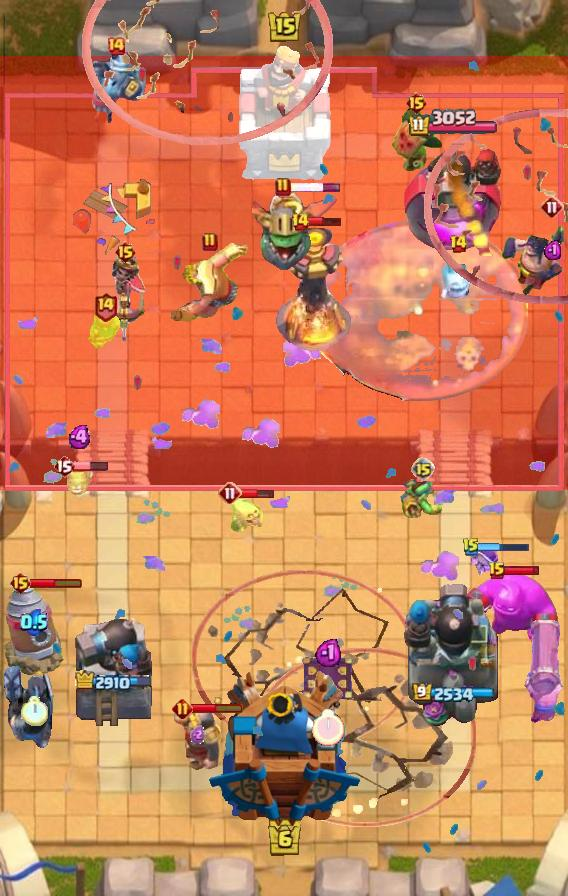bat: (436, 259, 480, 305)
bat-evolution: (225, 498, 265, 532)
battle-healer: (522, 620, 568, 724)
bomber-evolution: (101, 254, 149, 346)
clone: (458, 571, 566, 653)
electro-dragon: (274, 225, 352, 351)
electro-spirit: (20, 608, 48, 636), (315, 637, 341, 667), (67, 425, 92, 449), (543, 239, 561, 261), (191, 724, 206, 743)
elixir: (312, 709, 344, 747), (20, 696, 47, 726)
elixir-golem-small: (86, 47, 146, 125)
emote: (30, 577, 83, 589), (192, 702, 245, 714), (478, 541, 530, 553), (289, 182, 343, 193), (73, 460, 109, 472), (503, 565, 540, 576), (307, 217, 343, 228), (239, 488, 275, 499)
firecracker: (174, 710, 223, 770)
giant-snowball: (399, 477, 447, 519), (86, 311, 124, 349)
goblin: (468, 544, 500, 578)
goblin-barrel: (388, 104, 444, 176)
goblin-hut: (170, 243, 249, 323)
guard: (192, 570, 416, 749), (252, 649, 476, 828)
ice-spirit-evolution: (64, 463, 96, 497)
ice-spirit-evolution-symbol: (301, 653, 355, 703)
inferno-dragon: (0, 662, 60, 756)
king-tower: (207, 669, 361, 826), (230, 43, 338, 181)
magic-archer: (4, 582, 64, 676)
monk: (500, 222, 568, 298)
night-witch: (252, 188, 340, 274)
phoenix-egg: (308, 221, 528, 402)
selected: (407, 110, 499, 139), (74, 670, 154, 694), (413, 684, 496, 705)
skeleton-barrel: (81, 0, 335, 144), (424, 107, 568, 305)
text: (94, 291, 119, 322), (540, 195, 564, 219), (114, 240, 138, 264), (411, 457, 435, 481), (218, 481, 242, 505), (404, 91, 427, 115), (8, 571, 31, 595), (53, 454, 75, 478), (172, 698, 193, 719), (106, 36, 126, 56), (290, 212, 310, 232), (448, 234, 468, 254), (462, 537, 480, 557), (488, 561, 506, 581), (275, 177, 291, 197), (202, 232, 218, 252)
tower-bar: (402, 579, 504, 731), (404, 138, 505, 256), (71, 611, 157, 731)
